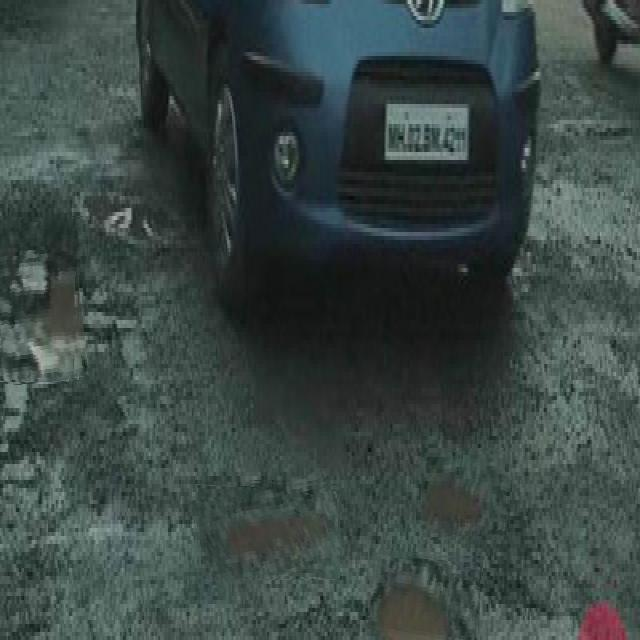Pothole: (193, 478, 340, 579), (0, 214, 83, 382), (368, 551, 480, 640), (422, 451, 507, 537)
